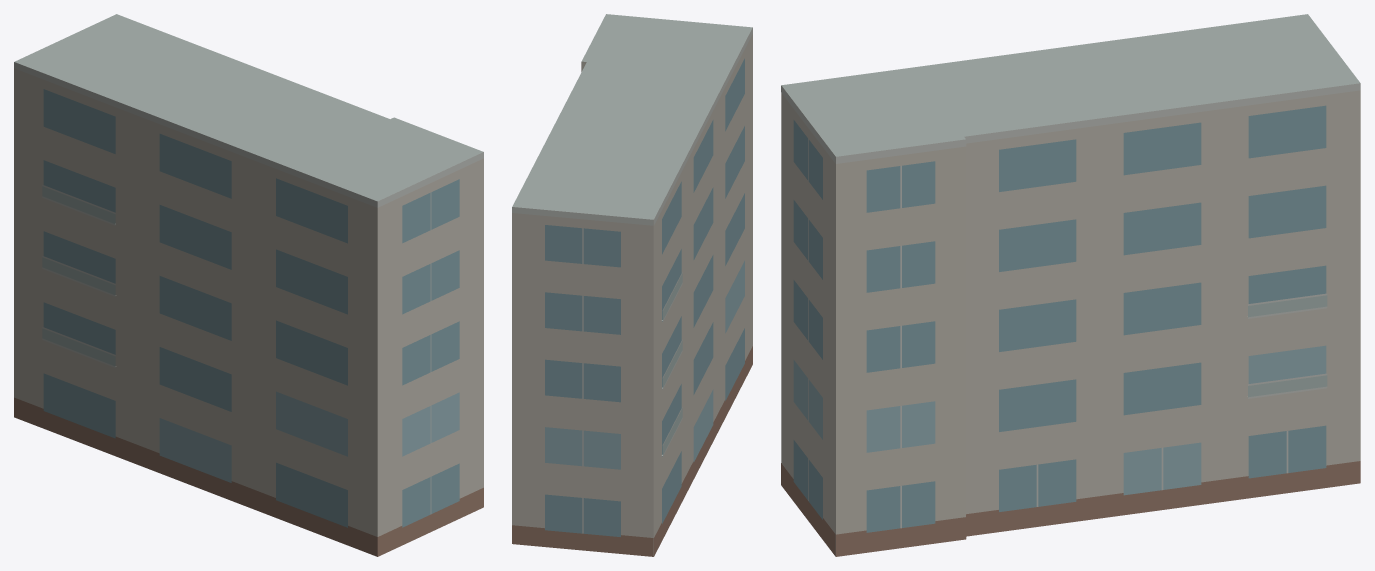
File: survey-upis-32920196.glb
The picture shows the model from 3 angles, left to right: view 1: azimuth 30°, elevation 25°; view 2: azimuth 150°, elevation 25°; view 3: azimuth 270°, elevation 25°; orthographic projection. The views are drawn at different scales.
Parts seen in each view (by area): view 1: survey-upis-32920196.tmp; view 2: survey-upis-32920196.tmp; view 3: survey-upis-32920196.tmp.
Part boxes in pixels (x1=…): survey-upis-32920196.tmp: x1=14, y1=14, x2=483, y2=556; survey-upis-32920196.tmp: x1=512, y1=14, x2=752, y2=556; survey-upis-32920196.tmp: x1=781, y1=14, x2=1360, y2=556.
Bounding box in the file's own units: 10.42 × 13.6 × 17.86.
